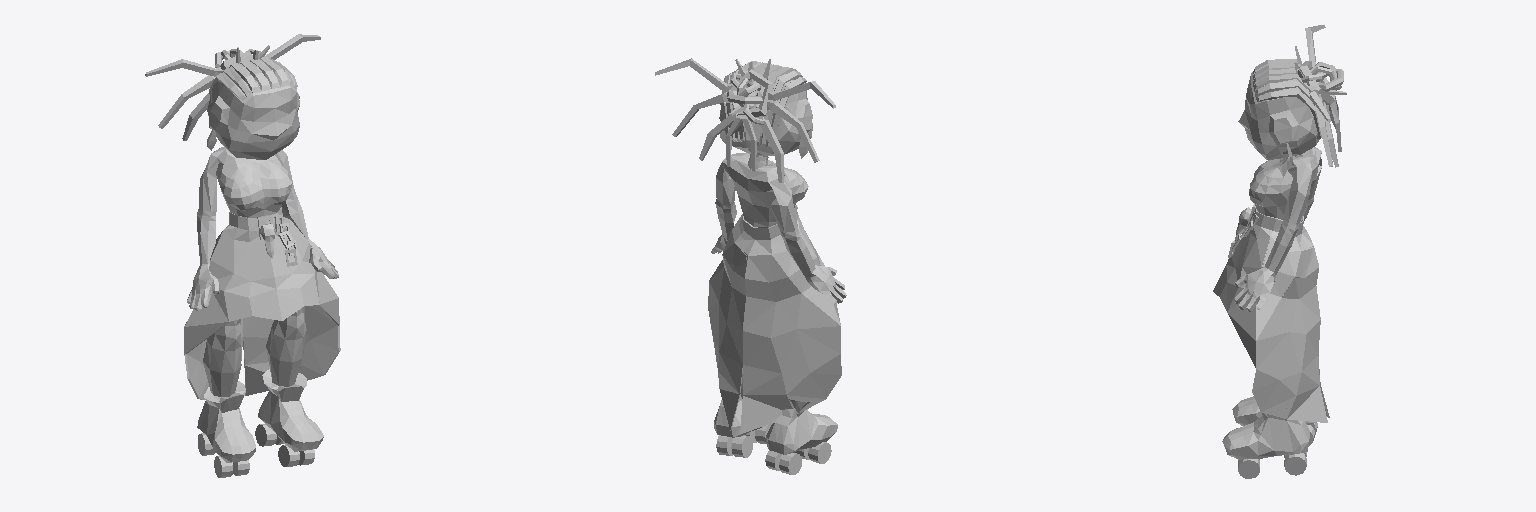
The model's file is bruja_000041.obj.
The picture shows the model from 3 angles: view 1: azimuth 30°, elevation 25°; view 2: azimuth 150°, elevation 25°; view 3: azimuth 270°, elevation 25°; orthographic projection.
Visible parts, largest first — view 1: Bruja_Plane.001; view 2: Bruja_Plane.001; view 3: Bruja_Plane.001.
Part boxes in pixels (left/top/right/bottom): Bruja_Plane.001: left=145, top=34, right=340, bottom=477; Bruja_Plane.001: left=655, top=58, right=846, bottom=474; Bruja_Plane.001: left=1213, top=25, right=1346, bottom=478.
Bounding box in the file's own units: 7.47 × 16.47 × 4.88.